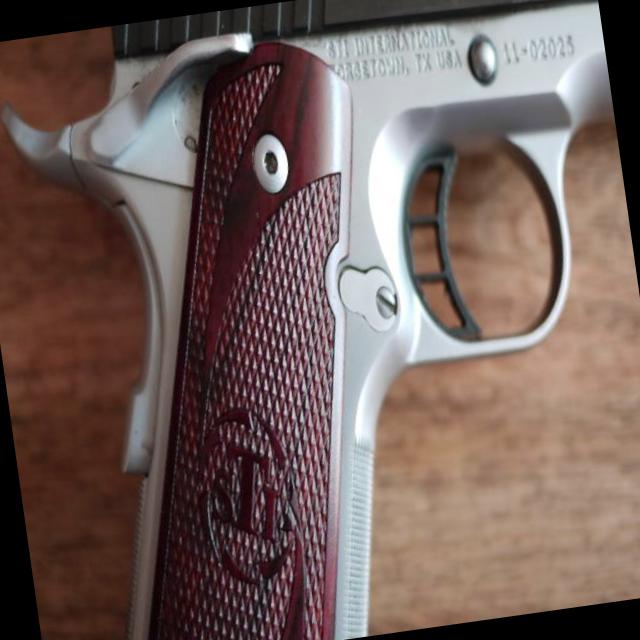Gun: (2, 0, 615, 640)
